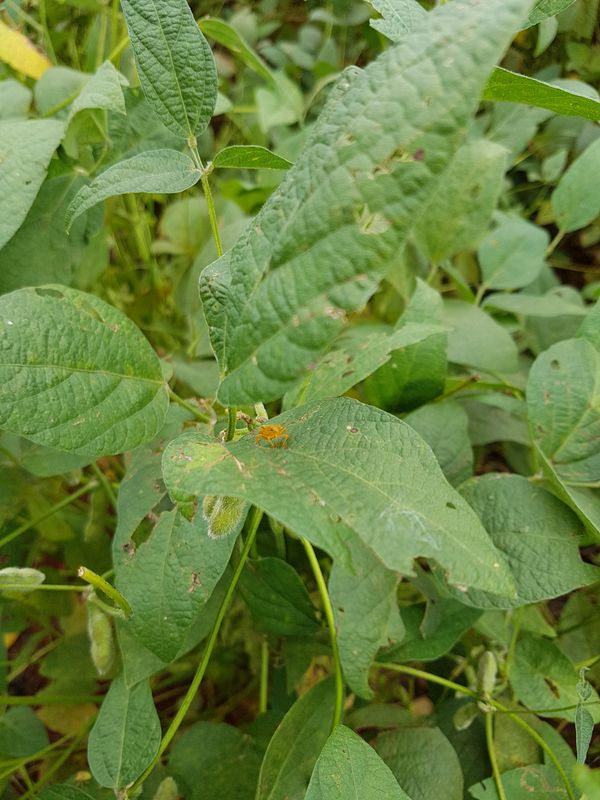Euschistus_heros_ninfa: (244, 413, 299, 457)
